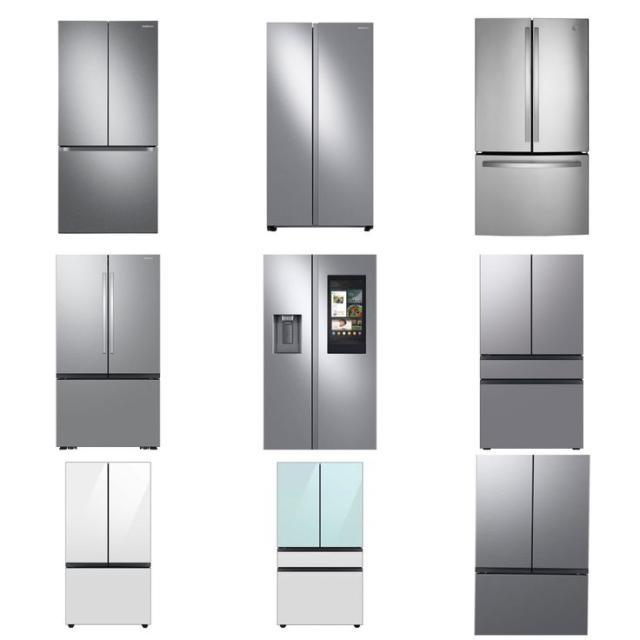obstacle: (474, 16, 590, 235), (265, 21, 374, 230), (262, 253, 376, 450), (56, 20, 158, 233), (472, 454, 591, 636), (479, 252, 584, 452), (55, 254, 160, 448), (273, 461, 365, 628), (64, 460, 150, 628)
